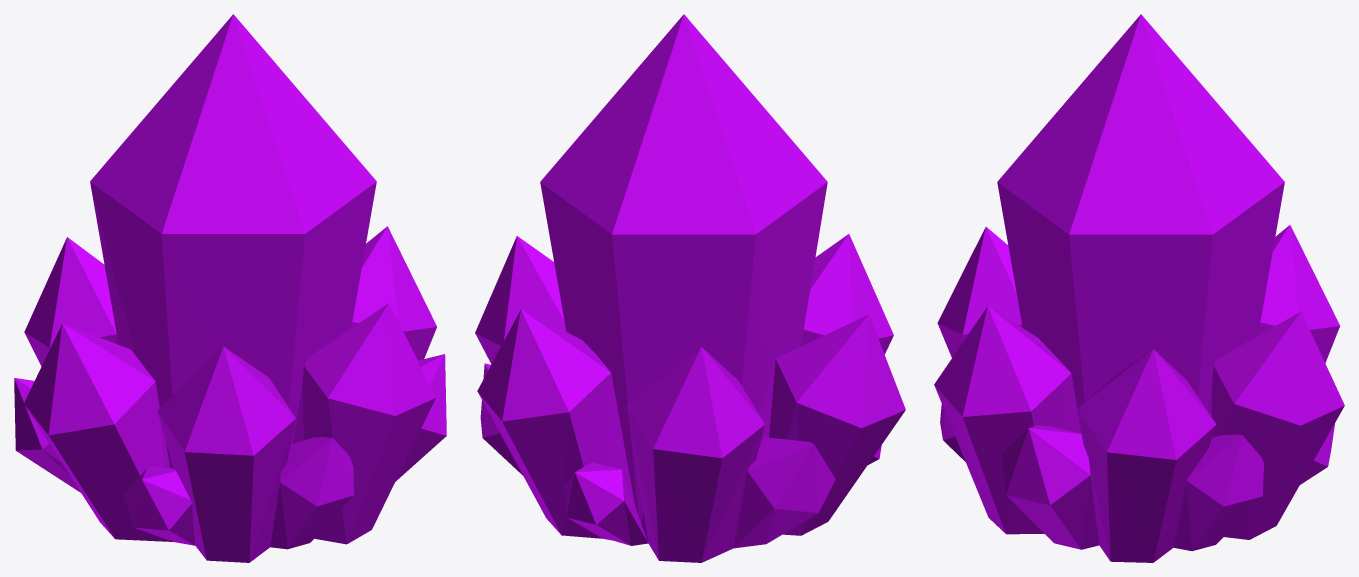
The model's file is crystal_magenta.obj.
The picture shows the model from 3 angles, left to right: view 1: azimuth 30°, elevation 25°; view 2: azimuth 150°, elevation 25°; view 3: azimuth 270°, elevation 25°; orthographic projection.
Parts seen in each view (by area): view 1: Crystal_Cube; view 2: Crystal_Cube; view 3: Crystal_Cube.
Part boxes in pixels (x1,y1,x2,y2): Crystal_Cube: (14,14,446,562); Crystal_Cube: (475,14,905,562); Crystal_Cube: (934,14,1344,562).
Size of the model in its own units: 0.8345 by 0.9795 by 0.7515.
